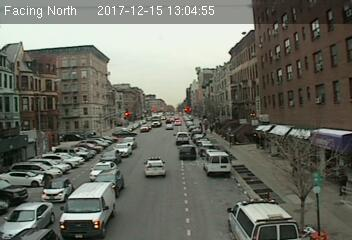car: (2, 202, 56, 239), (93, 168, 124, 197), (40, 177, 72, 202), (89, 161, 116, 180), (178, 144, 199, 162), (99, 149, 121, 164), (113, 143, 134, 158), (173, 131, 191, 145)
police: (224, 196, 306, 240), (142, 157, 168, 178)
truck: (61, 183, 115, 239), (204, 152, 232, 176)
